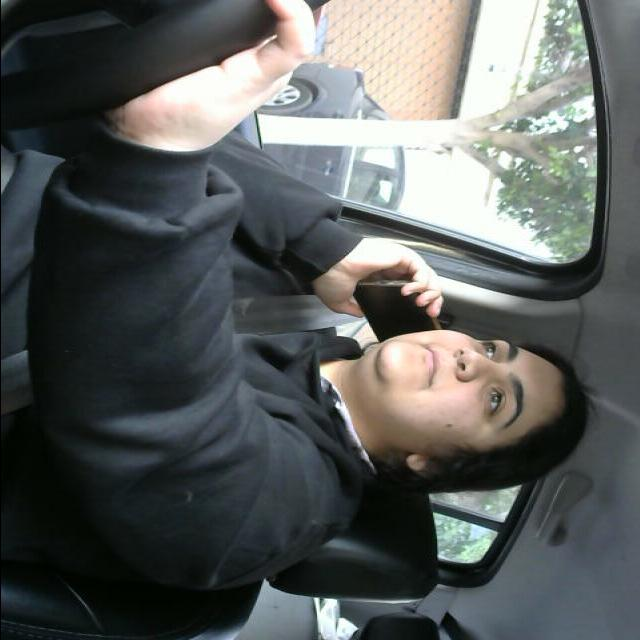mobile use: (334, 276, 452, 332)
